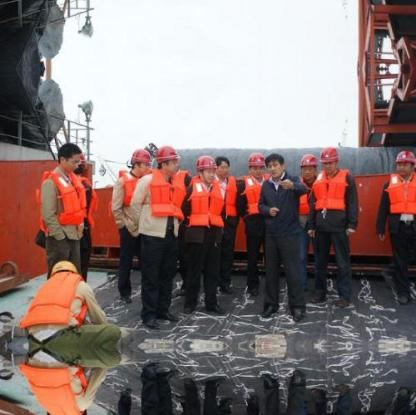No Safety Helmet: (53, 139, 86, 179), (264, 152, 290, 183), (212, 153, 231, 181)
Safety Helmet: (190, 153, 223, 191), (152, 144, 183, 177), (243, 150, 269, 188), (316, 145, 342, 182), (128, 147, 156, 181), (46, 257, 84, 282), (392, 147, 415, 186), (298, 150, 321, 188)
